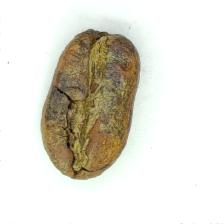NG: (43, 30, 132, 179)
